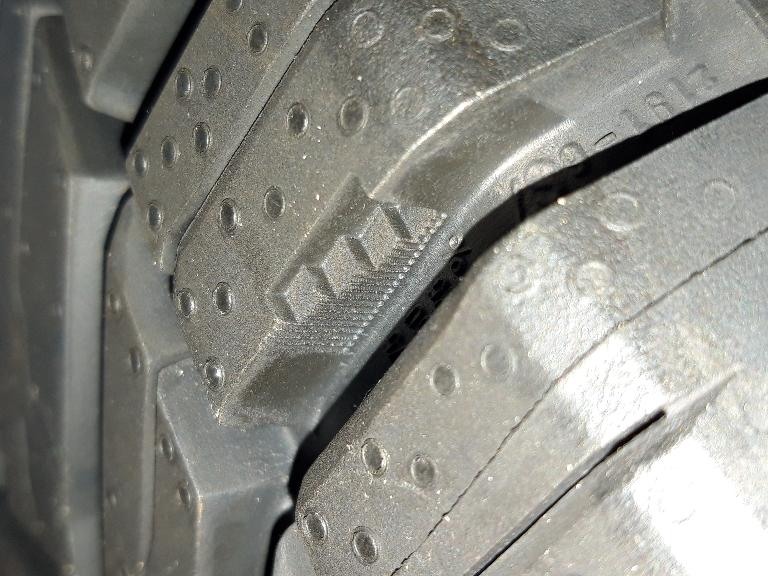temoin:100: (244, 167, 458, 364)
